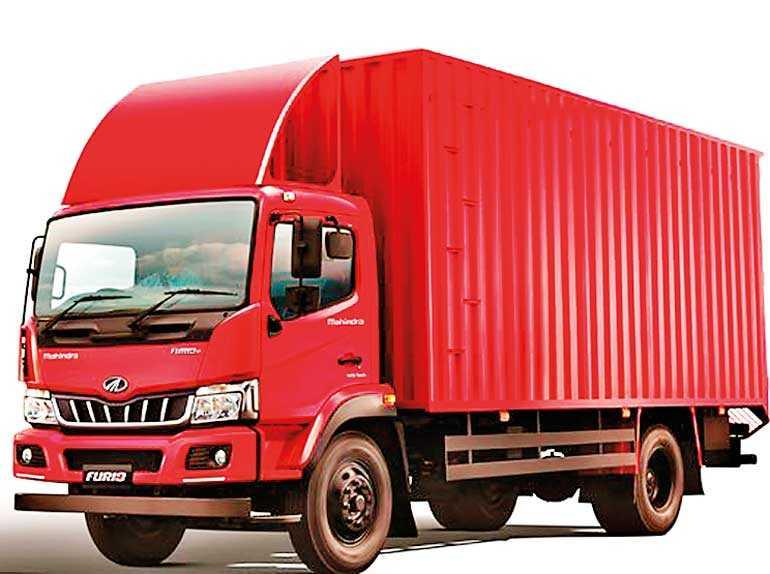truck: (12, 47, 770, 574)
